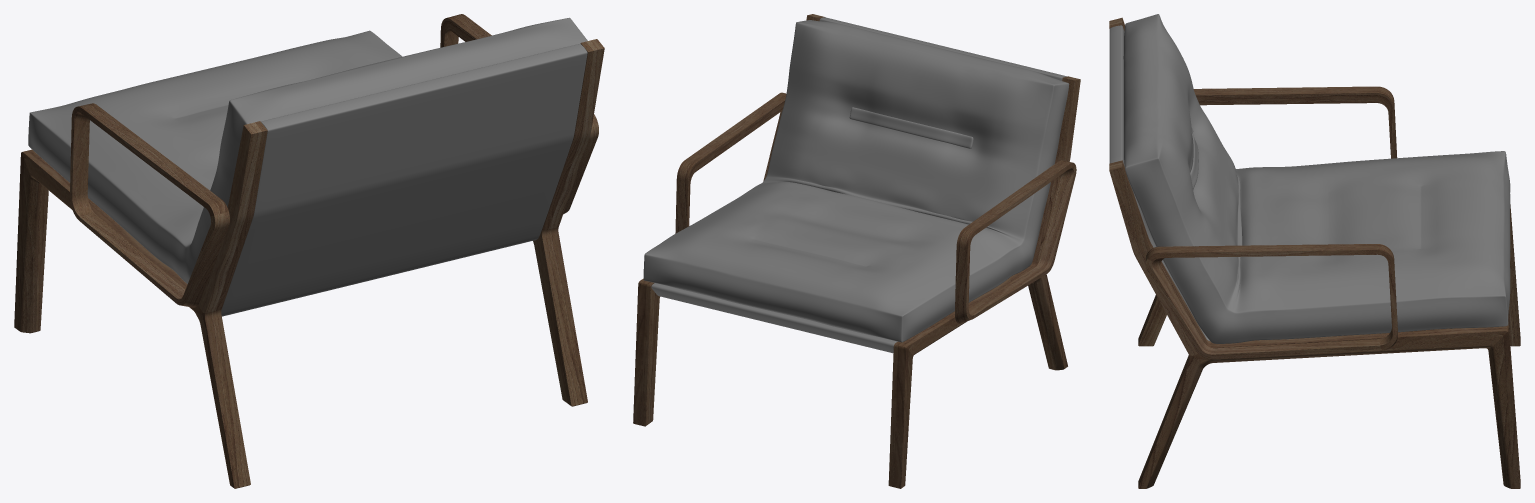
3 renders of one model, left to right at view 1: azimuth 30°, elevation 25°; view 2: azimuth 150°, elevation 25°; view 3: azimuth 270°, elevation 25°, orthographic. The views are drawn at different scales.
Parts seen in each view (by area): view 1: Almofada, Madeira (2); view 2: Almofada, Madeira (2); view 3: Almofada, Madeira (2).
Boxes of the visible parts, <box> form: Almofada: <box>28,17,587,316</box>; Madeira (2): <box>14,14,604,488</box>; Almofada: <box>643,17,1069,353</box>; Madeira (2): <box>633,14,1080,488</box>; Almofada: <box>1109,14,1510,343</box>; Madeira (2): <box>1109,17,1520,488</box>.
Bounding box in the file's own units: 51.58 × 48.84 × 55.08.
